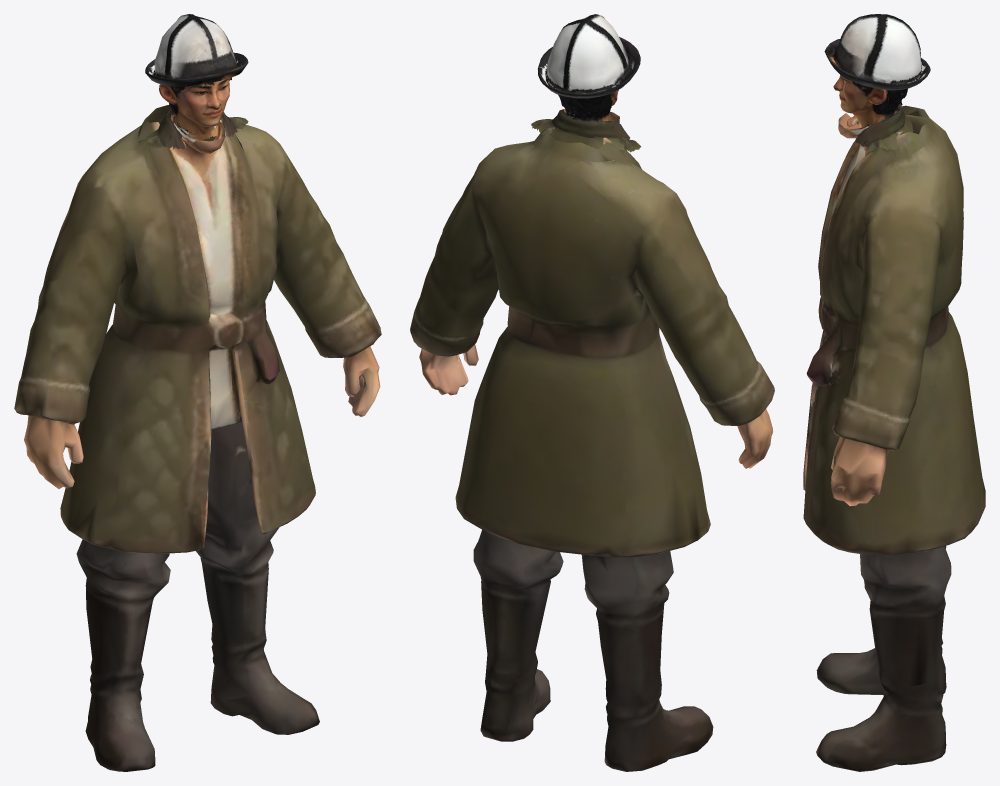
The model's file is herder-erlan.gen.glb.
3 views of the same model, side by side, from view 1: azimuth 30°, elevation 25°; view 2: azimuth 150°, elevation 25°; view 3: azimuth 270°, elevation 25° (orthographic).
Parts seen in each view (by area): view 1: herder-erlan.raw; view 2: herder-erlan.raw; view 3: herder-erlan.raw.
Boxes of the visible parts, x1,y1,x2,y2 form: herder-erlan.raw: [14, 14, 381, 771]; herder-erlan.raw: [410, 14, 774, 771]; herder-erlan.raw: [803, 14, 985, 771].
Bounding box in the file's own units: 0.9567 × 1.85 × 0.4318.
1 material, 1 textured.
